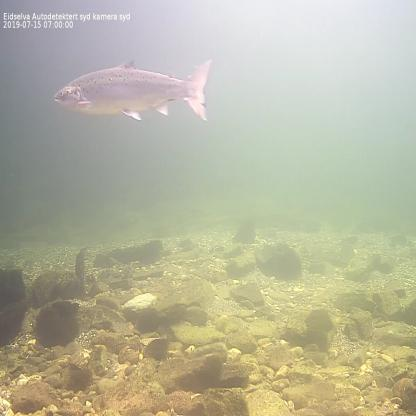salmon: (51, 53, 215, 126)
